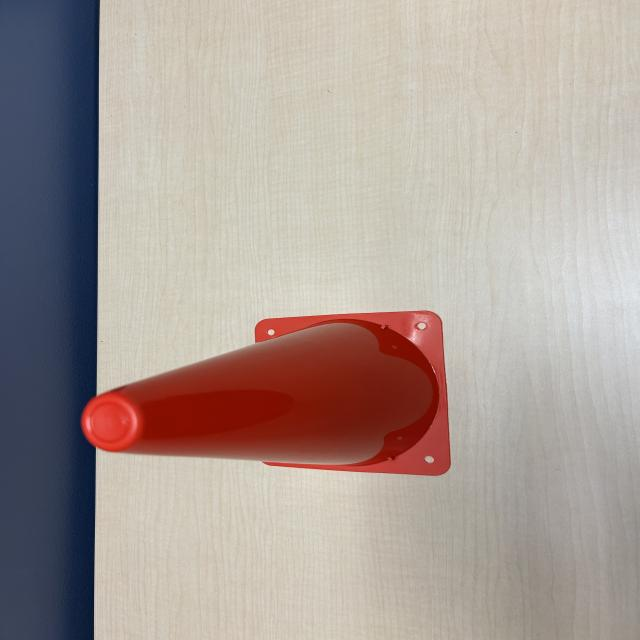orange cone: (82, 300, 456, 480)
